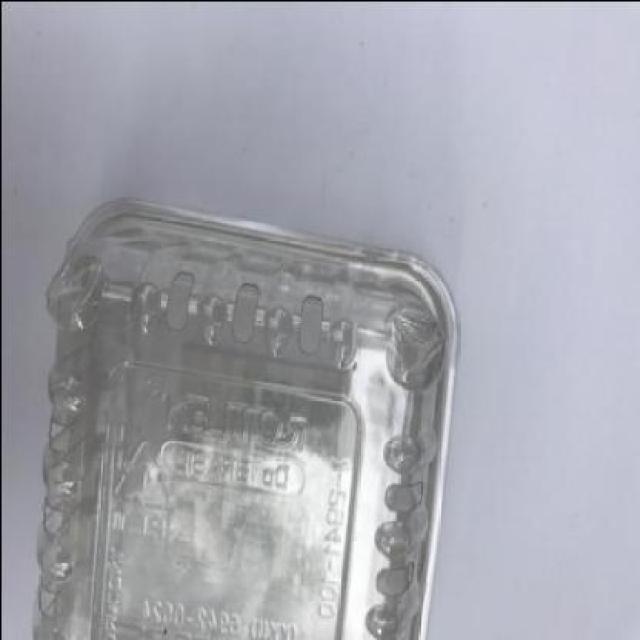PLASTIC: (31, 196, 458, 638)
